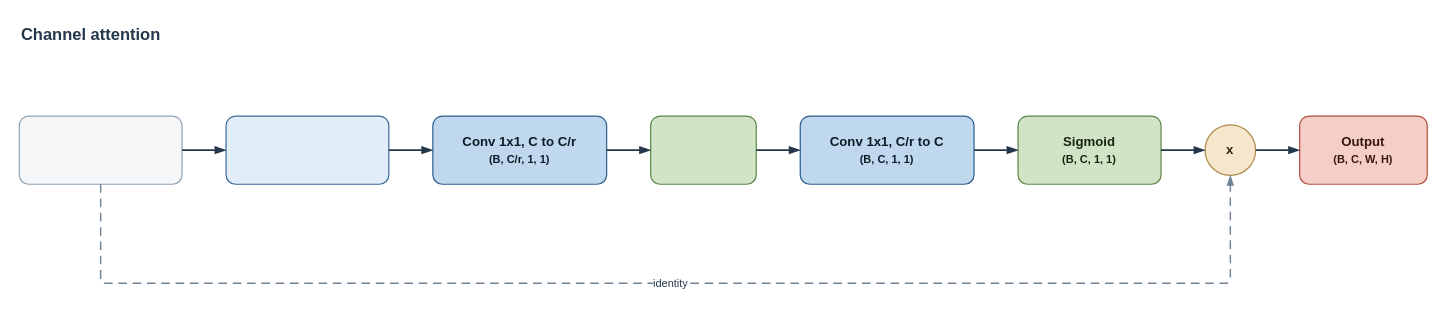
Image size: 1448x311. Some labels were removed from this diagram. Each missing label, with the centre of its shape:
Adaptive avg pool (B, C, 1, 1): the point at 307,149
Input feature map (B, C, W, H): the point at 100,149
ReLU: the point at 703,149
